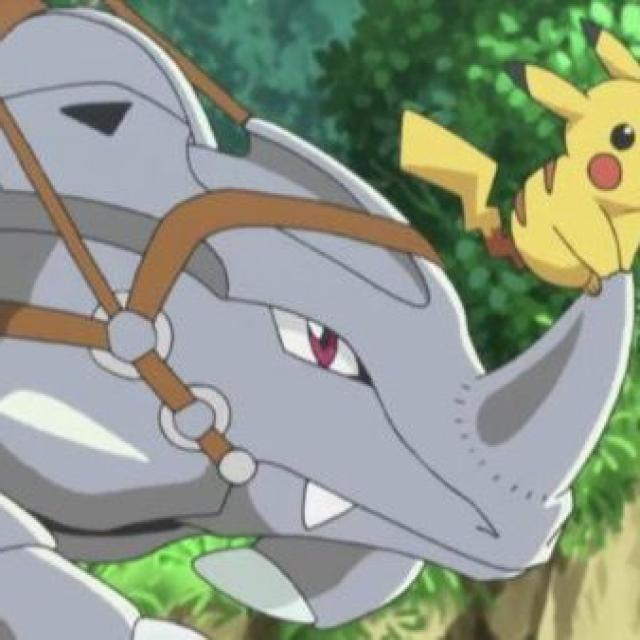Pikachu: (506, 42, 640, 294)
Rhyhorn: (0, 121, 637, 574)
